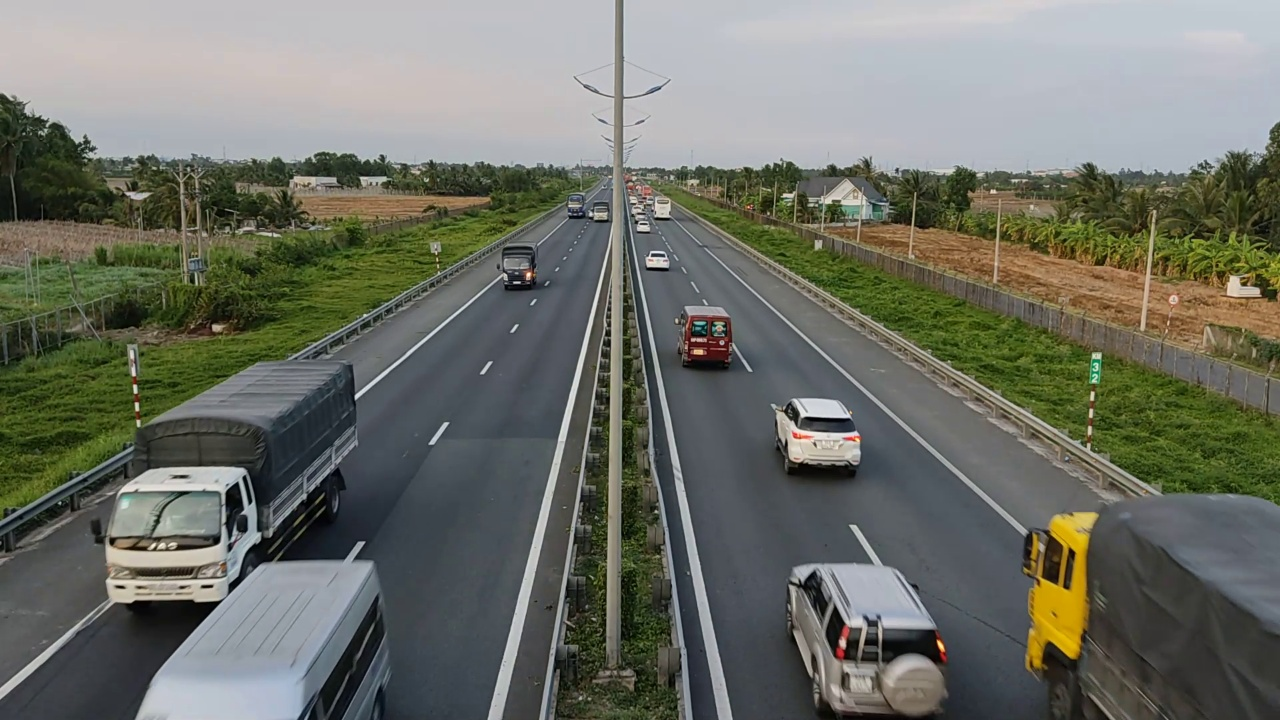bus: (135, 555, 395, 717)
car: (785, 560, 950, 719), (769, 396, 862, 474), (675, 305, 733, 369), (645, 249, 670, 271)
truck: (95, 358, 361, 610), (1019, 492, 1278, 716)
